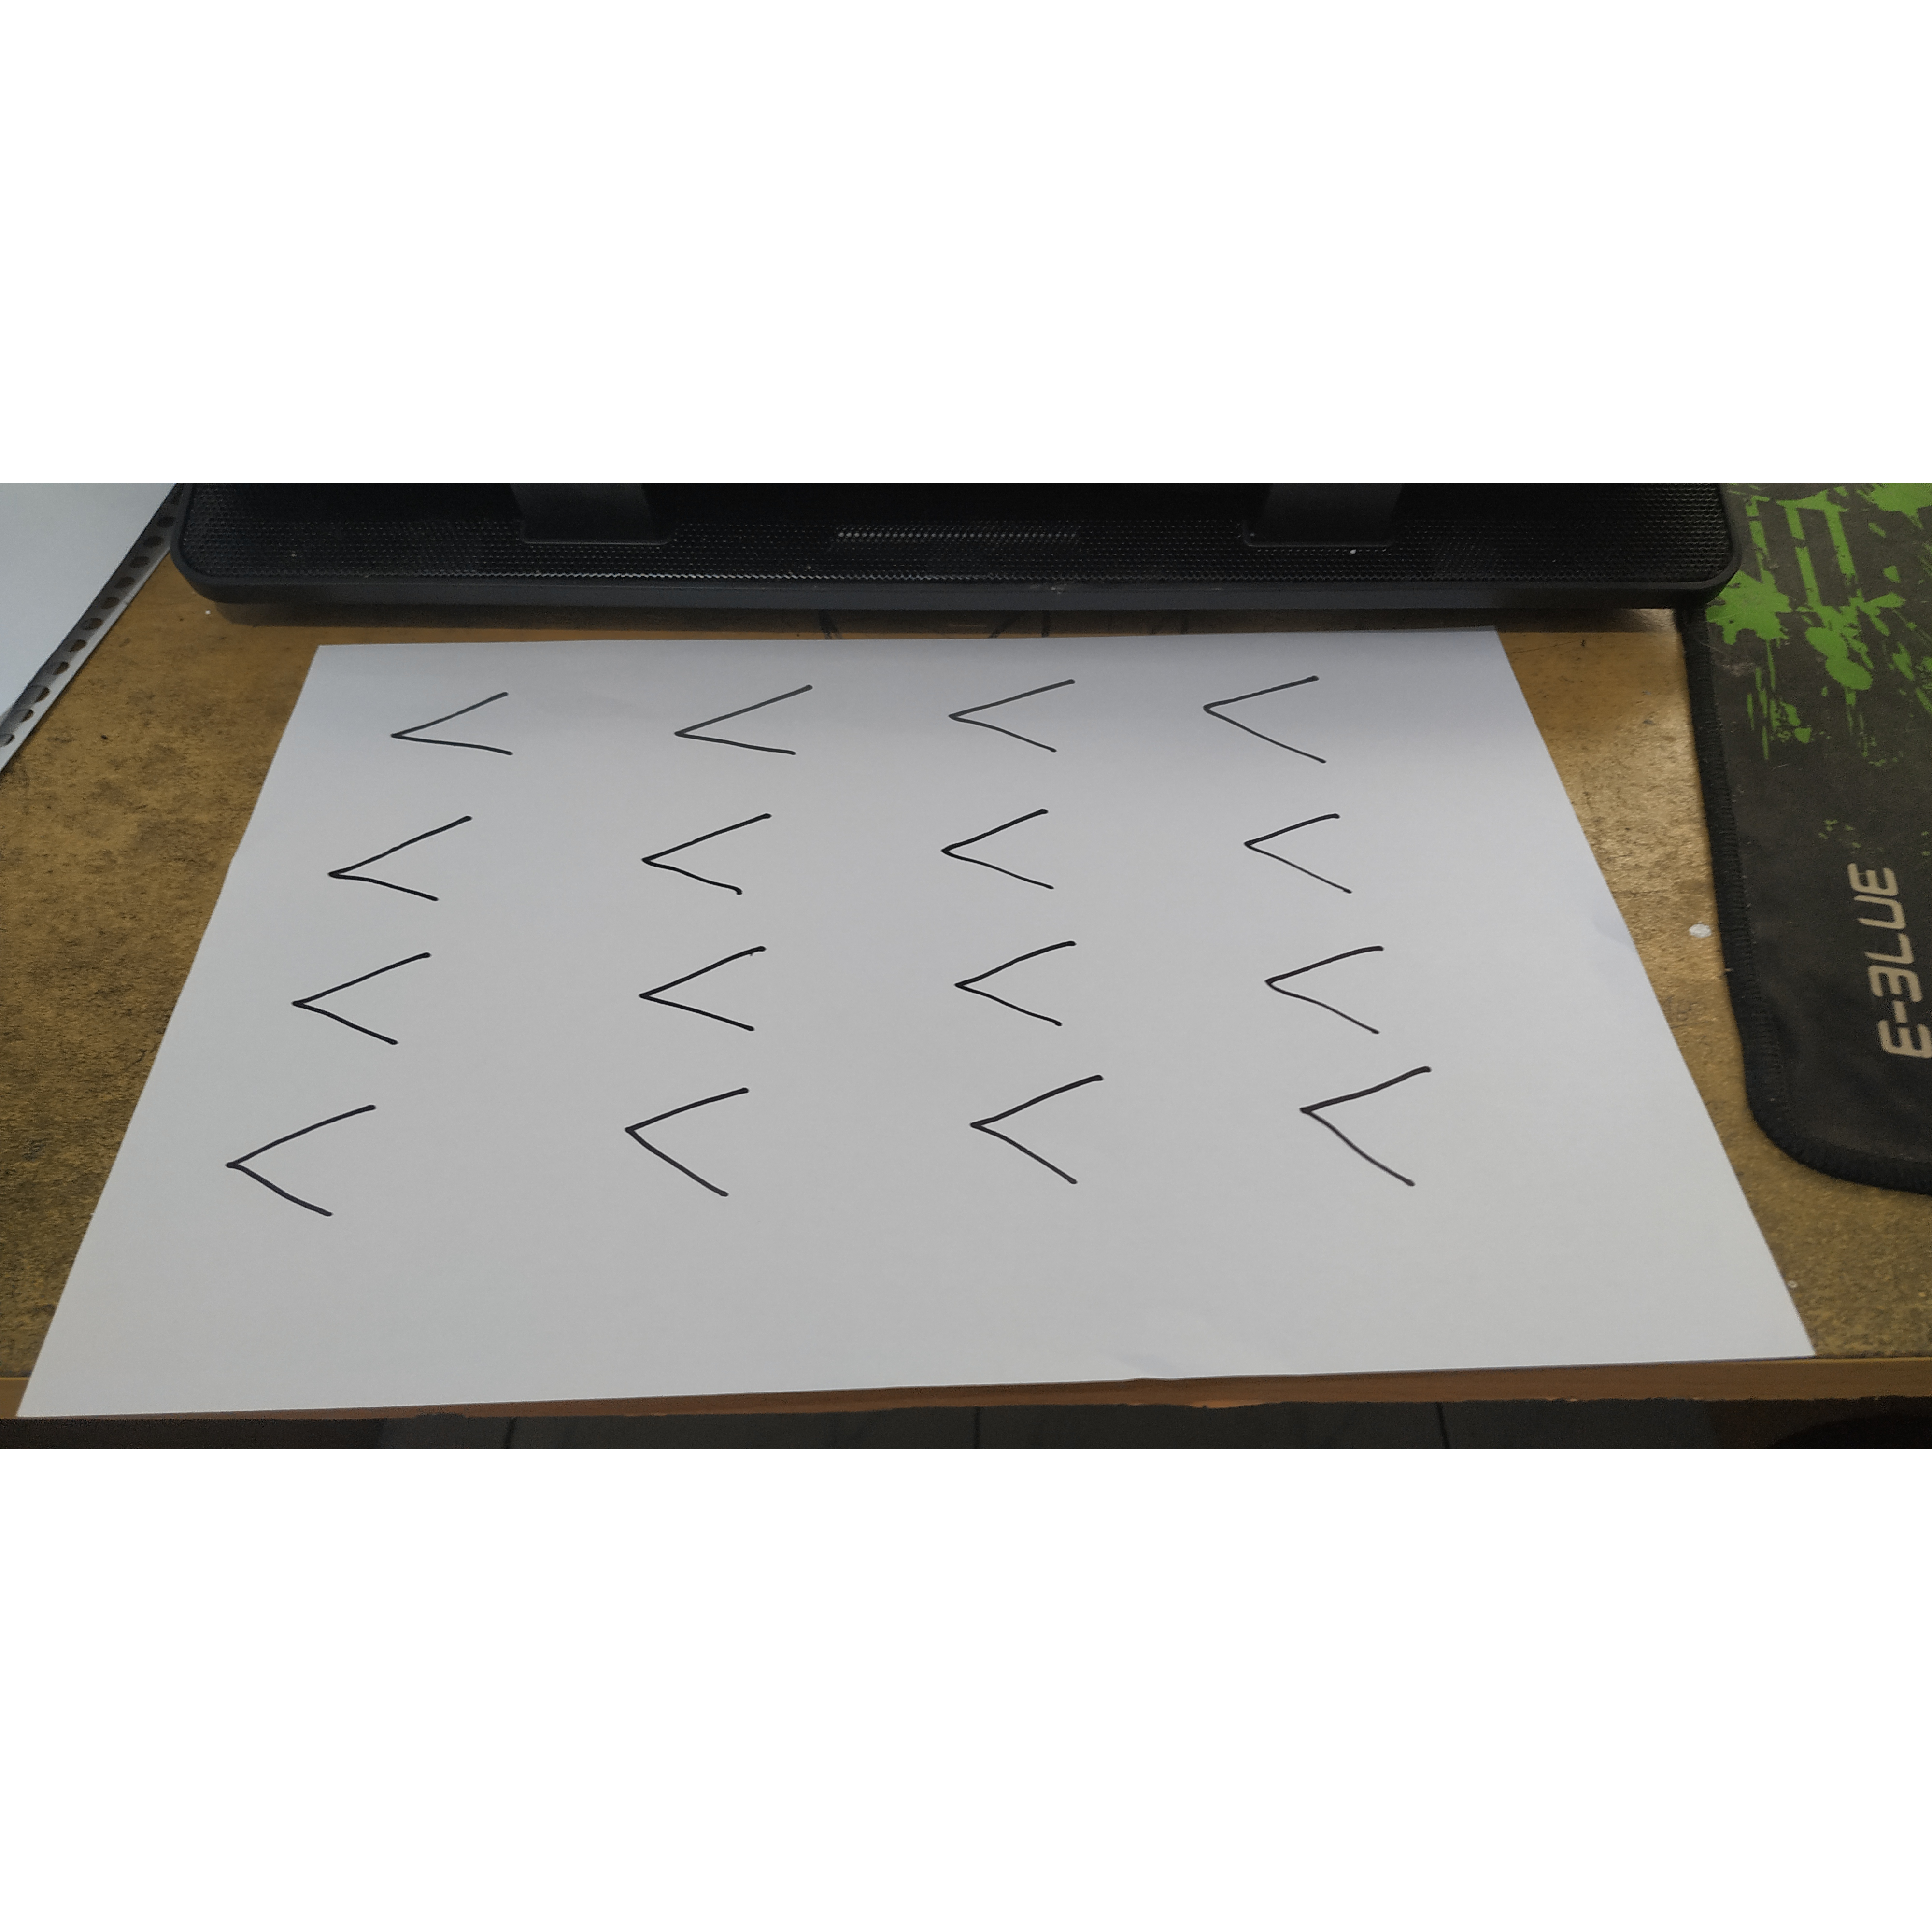lessthan: (209, 1081, 408, 1233), (954, 1067, 1131, 1201), (1282, 1063, 1464, 1193), (1187, 659, 1362, 783), (921, 668, 1118, 775), (618, 1083, 774, 1214), (288, 938, 448, 1065), (631, 804, 811, 913), (925, 790, 1086, 907), (654, 672, 838, 775), (328, 800, 484, 918), (629, 935, 793, 1046), (939, 930, 1108, 1037), (1252, 935, 1408, 1046), (379, 681, 528, 781), (1240, 802, 1370, 907)
